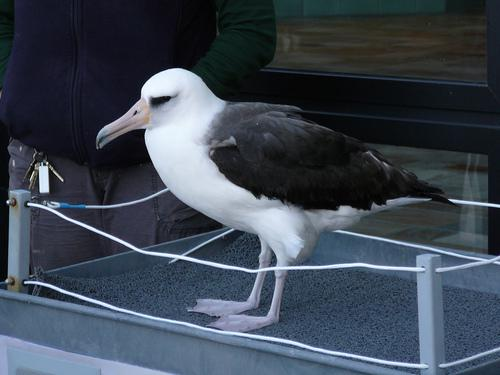002.Laysan_Albatross: (93, 67, 456, 334)
